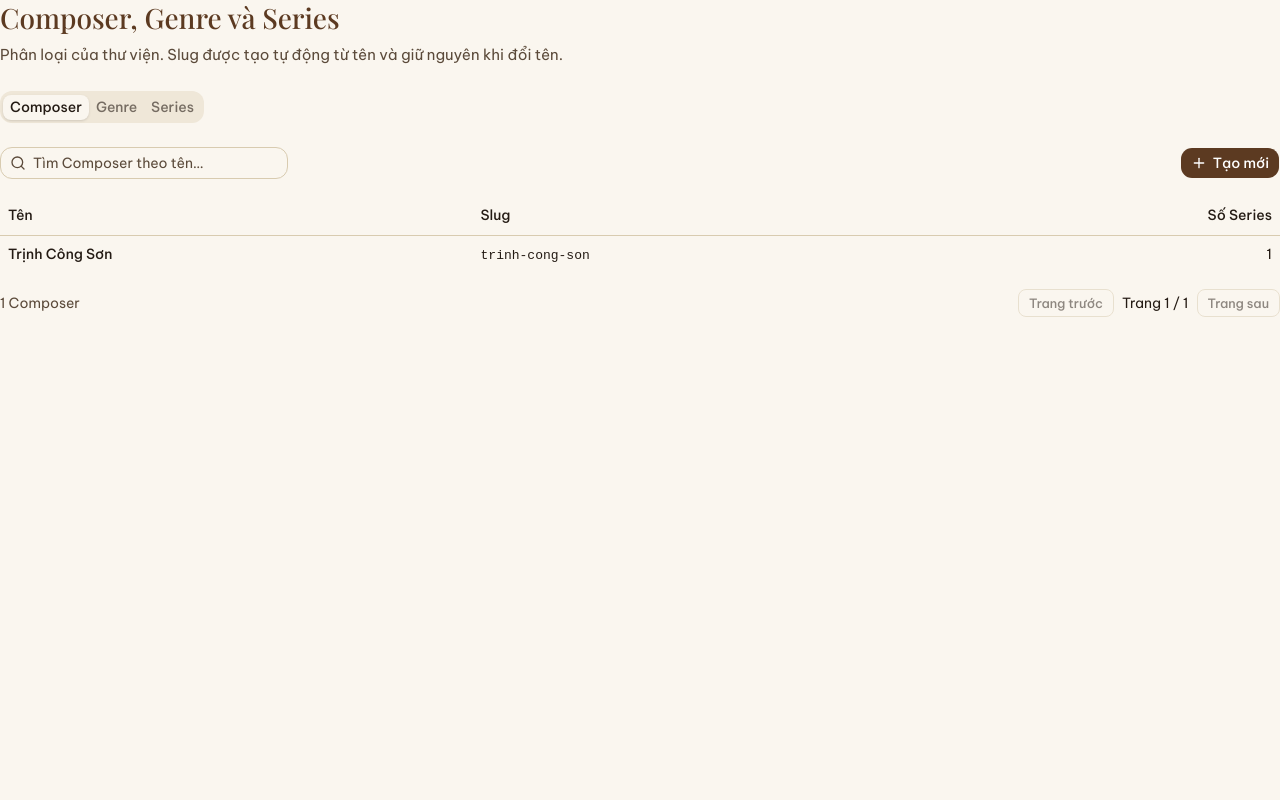
Composer — xoá thành công, lùi trang, lỗi server › PATCH 404 NOT_FOUND -> alert "không còn tồn tại"
The image size is (1280, 800).
Click the row named "Sửa Composer Trịnh Công Sơn": point(60, 254) [0,235,1279,273]
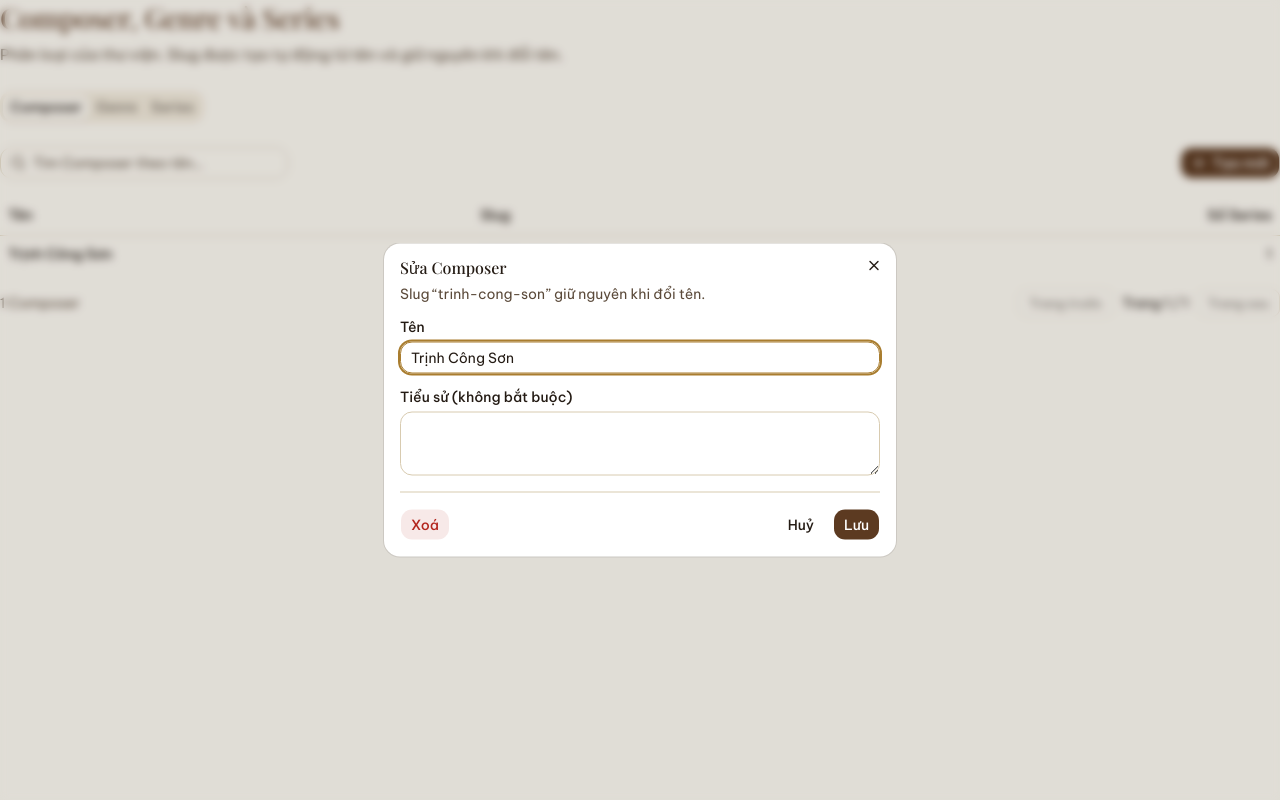
Click the button "Lưu": point(856, 524) [833,508,880,540]
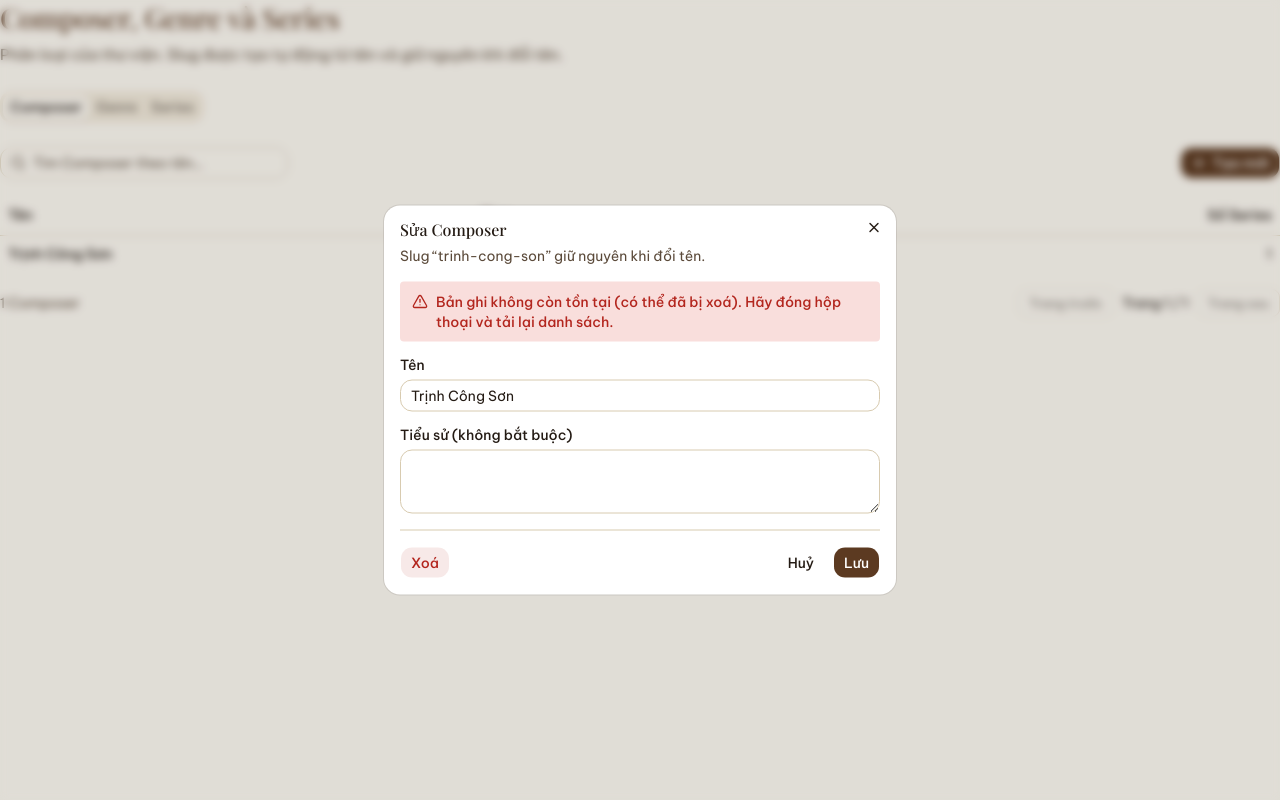
Now the message shows "không còn tồn tại", box [436,292,841,330]
